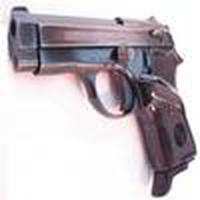gun: (4, 6, 199, 197)
